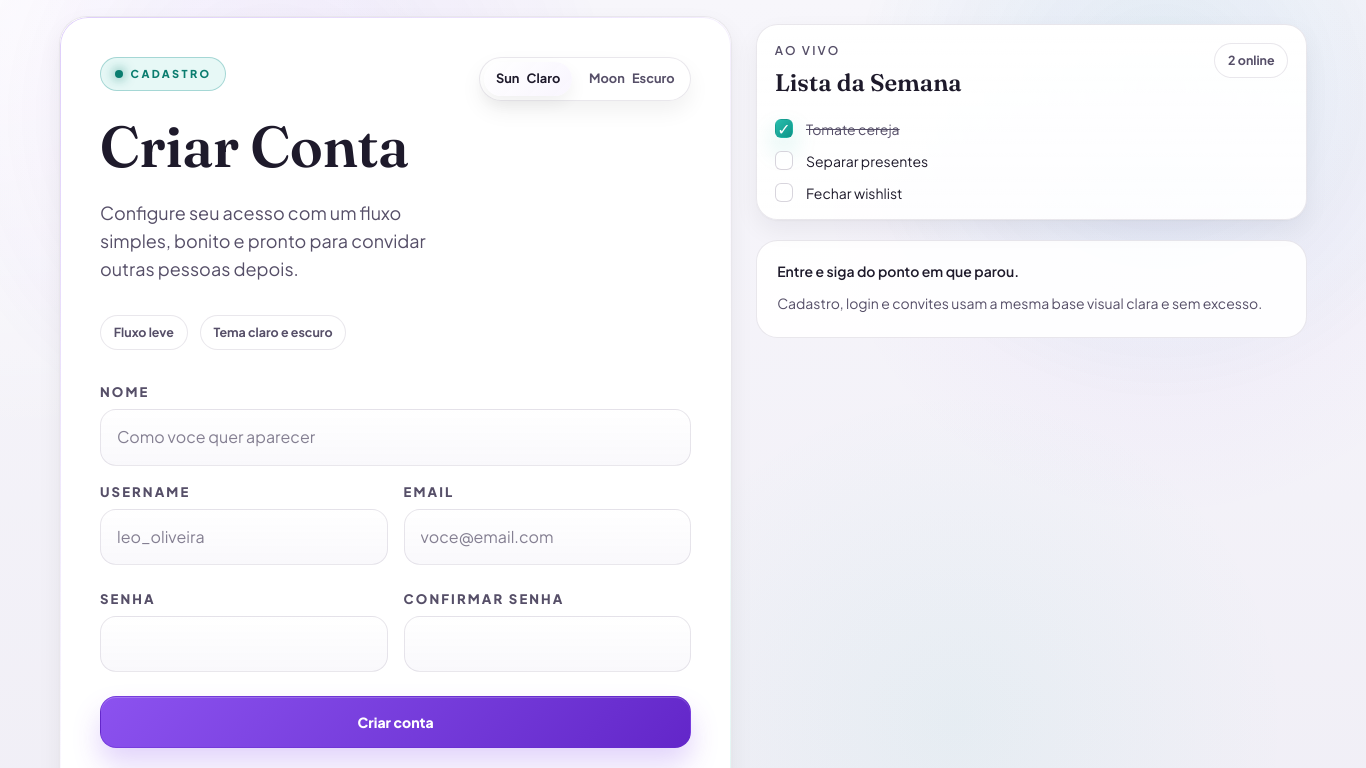
Register page › bloqueia envio quando as senhas nao conferem
The image size is (1366, 768).
Type "leo" into the field labelled "Username". click: {"x": 244, "y": 537}
box: [100,508,388,565]
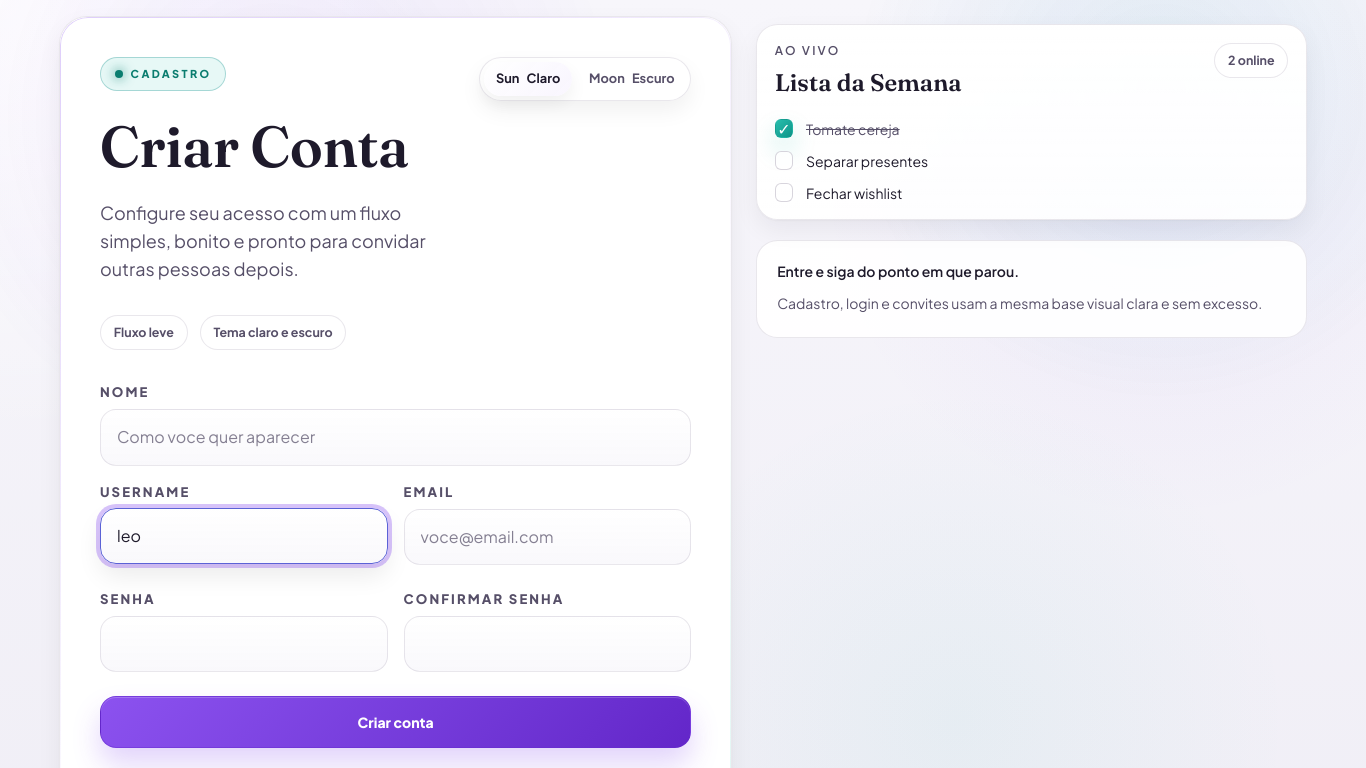
Type "leo@test.com" into the field labelled "Email". click: {"x": 547, "y": 537}
box: [404,508,691,565]
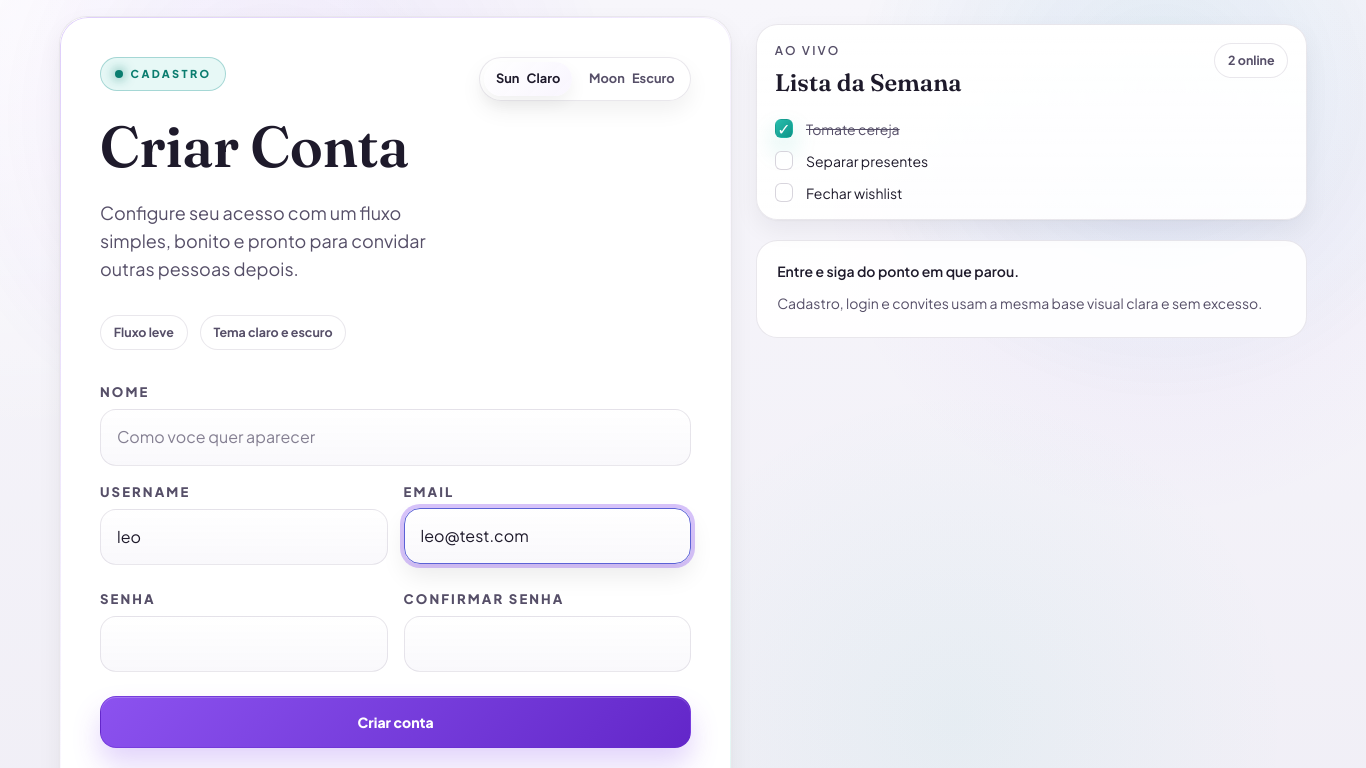
Type "123456" into the password field labelled "Senha". click: {"x": 244, "y": 644}
box: [100,616,388,672]
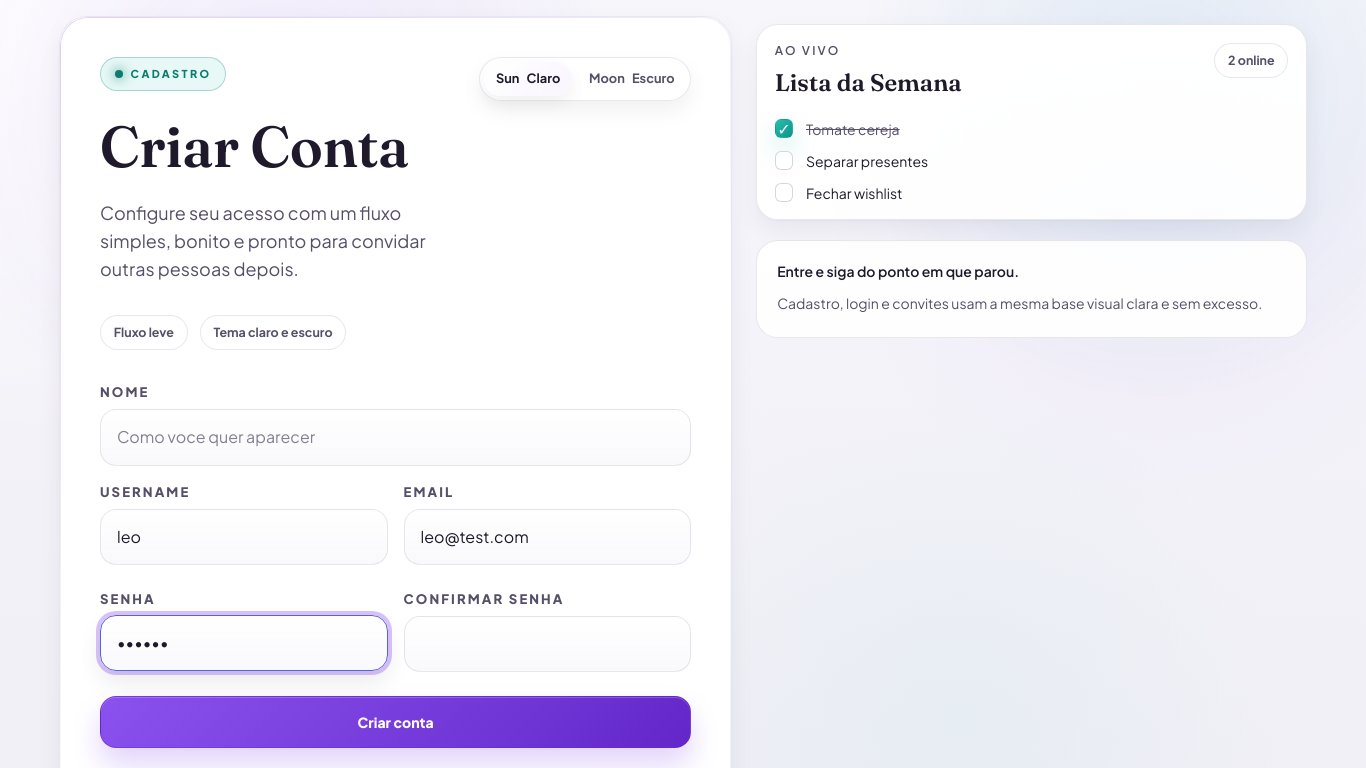
Type "abcdef" into the password field labelled "Confirmar senha". click: {"x": 547, "y": 644}
box: [404,616,691,672]
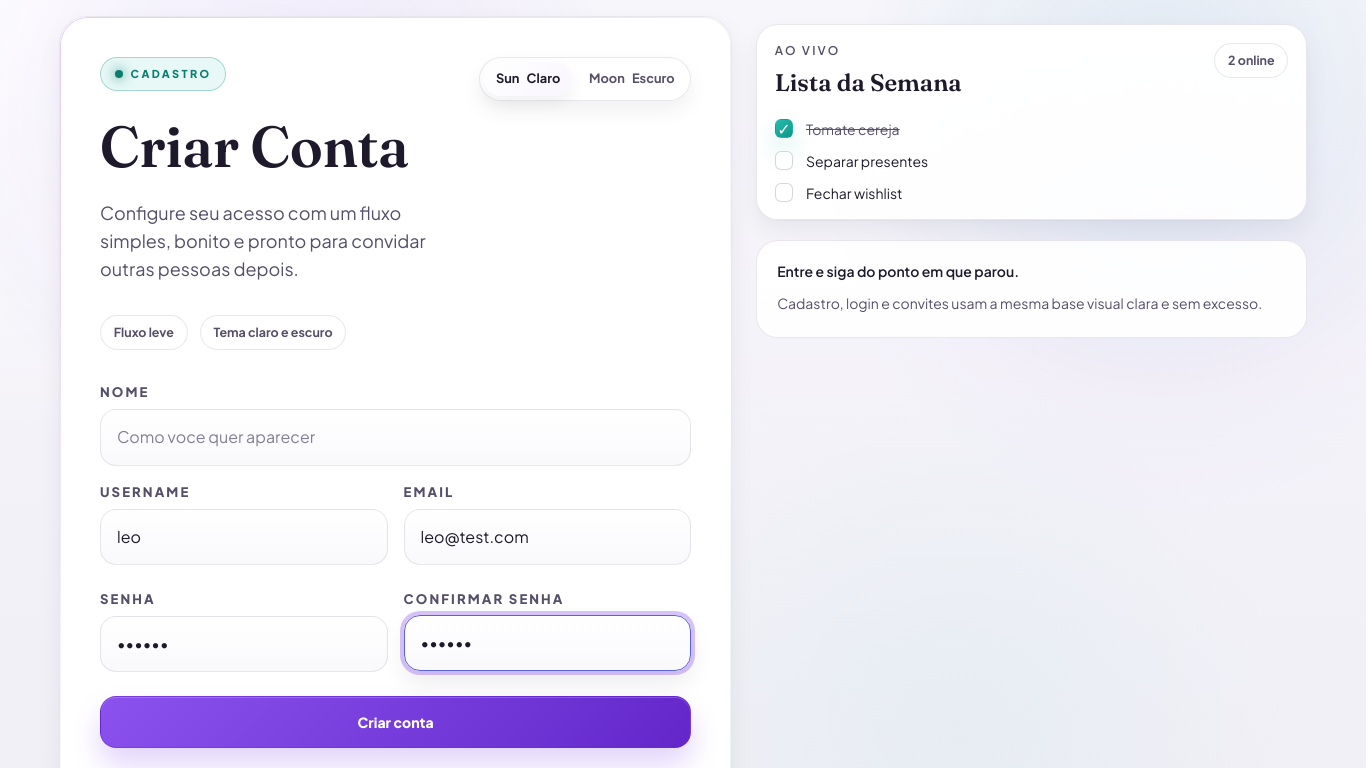
Click the button "Criar conta". click: {"x": 396, "y": 722}
box: [100,696,691,748]
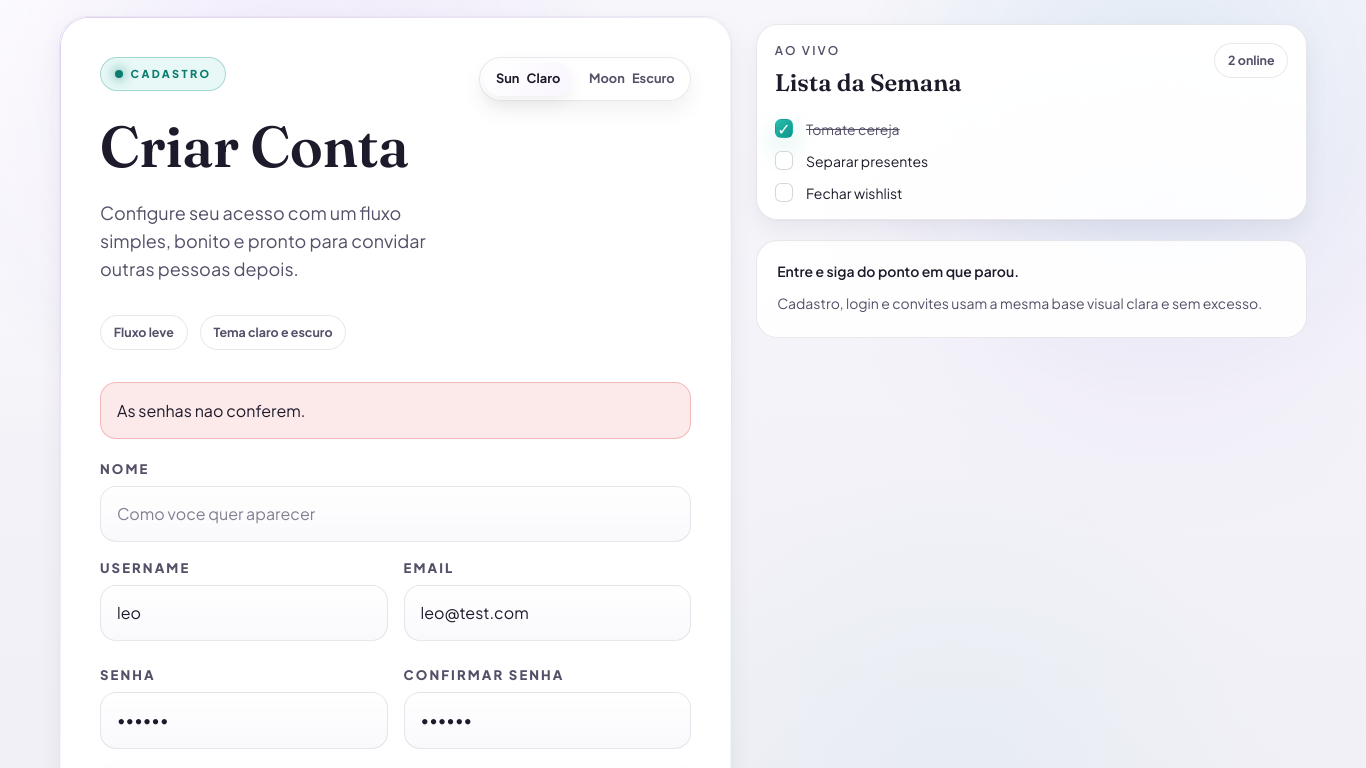
Expected: the text "As senhas nao conferem." is shown, [100,382,691,439]
